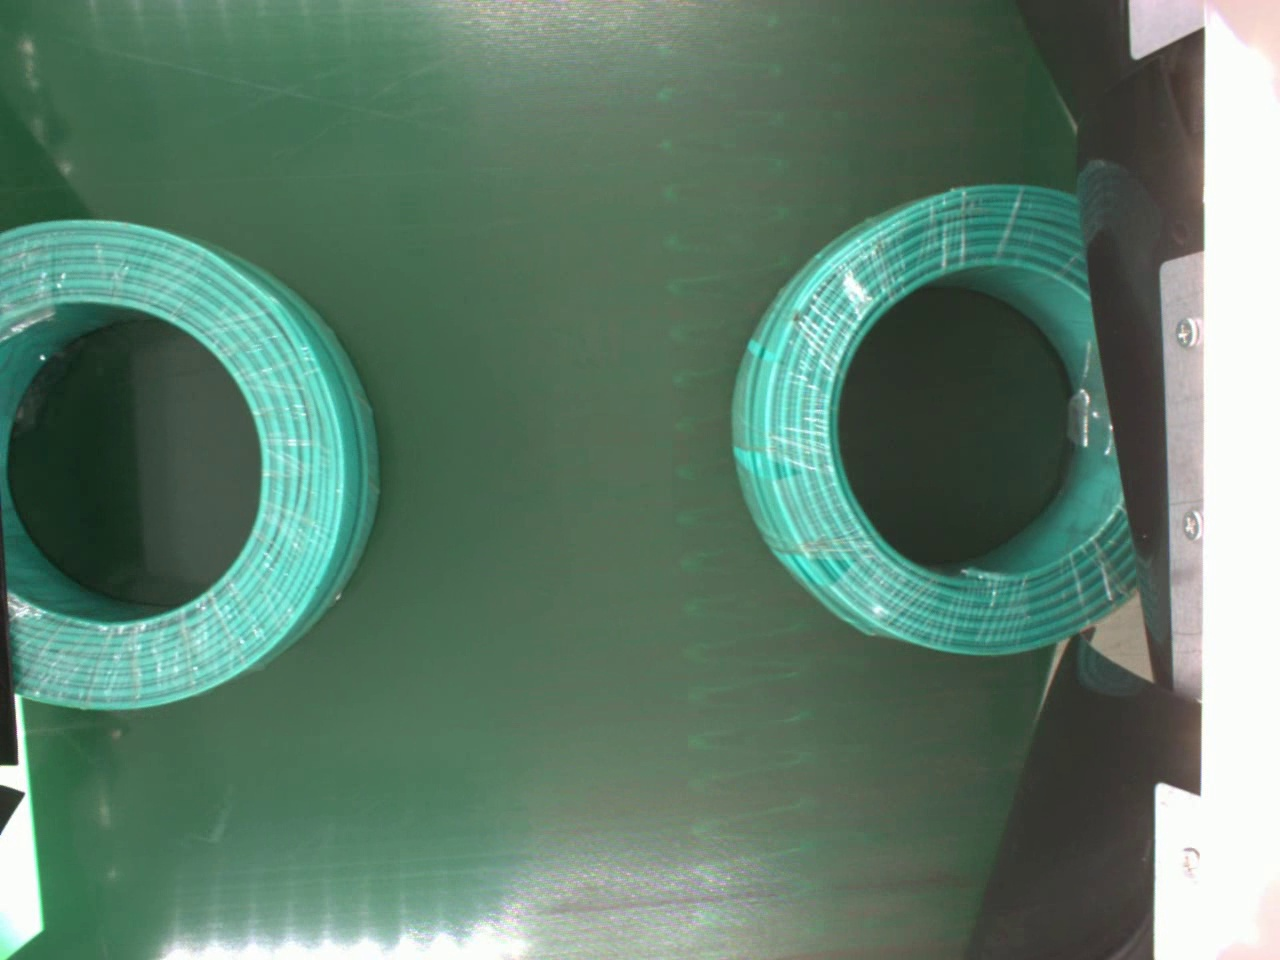green: (724, 177, 1136, 659), (0, 217, 376, 717)
